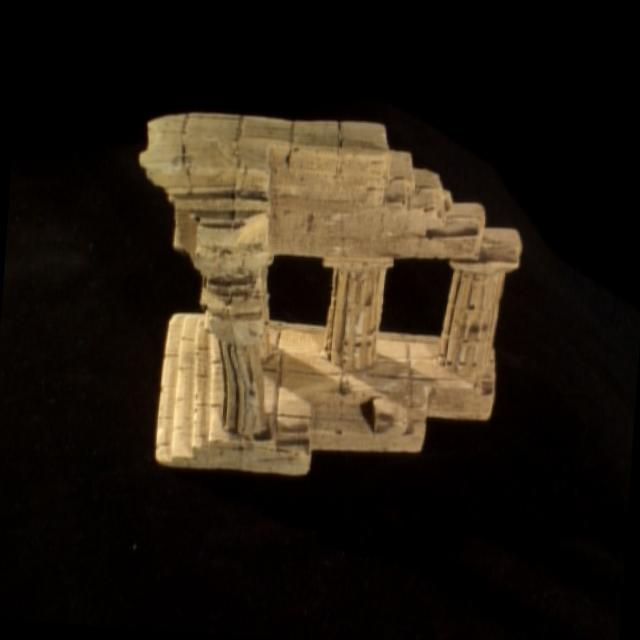Instance-Segmentation: (138, 113, 517, 474)
